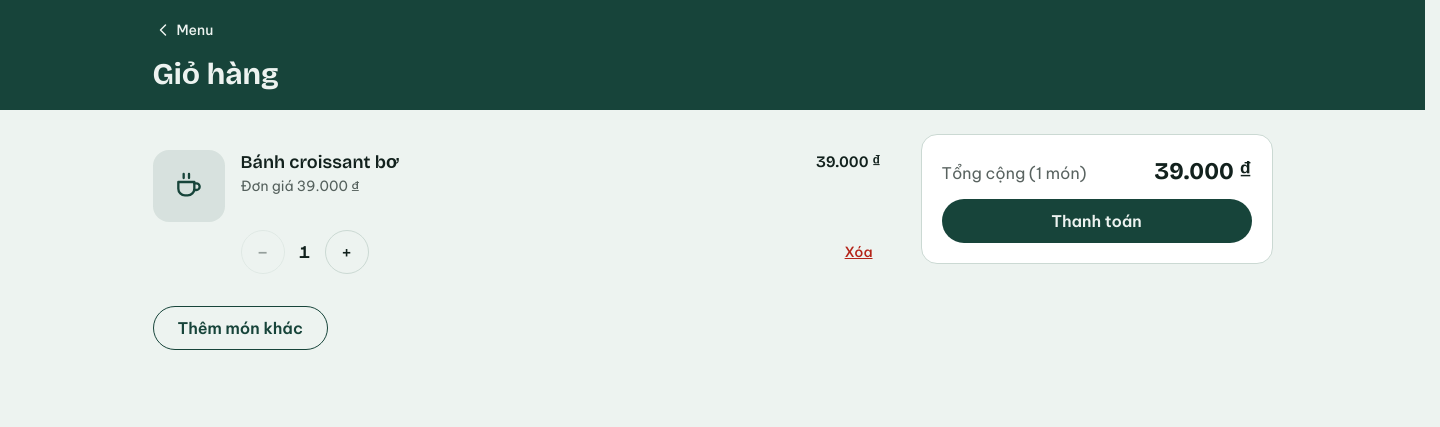
CartScreen › về trạng thái trống khi xóa dòng cuối cùng
The image size is (1440, 427).
Click the button with aria-label "Xóa Bánh croissant bơ khỏi giỏ".
click(859, 252)  # box [837,230,880,274]
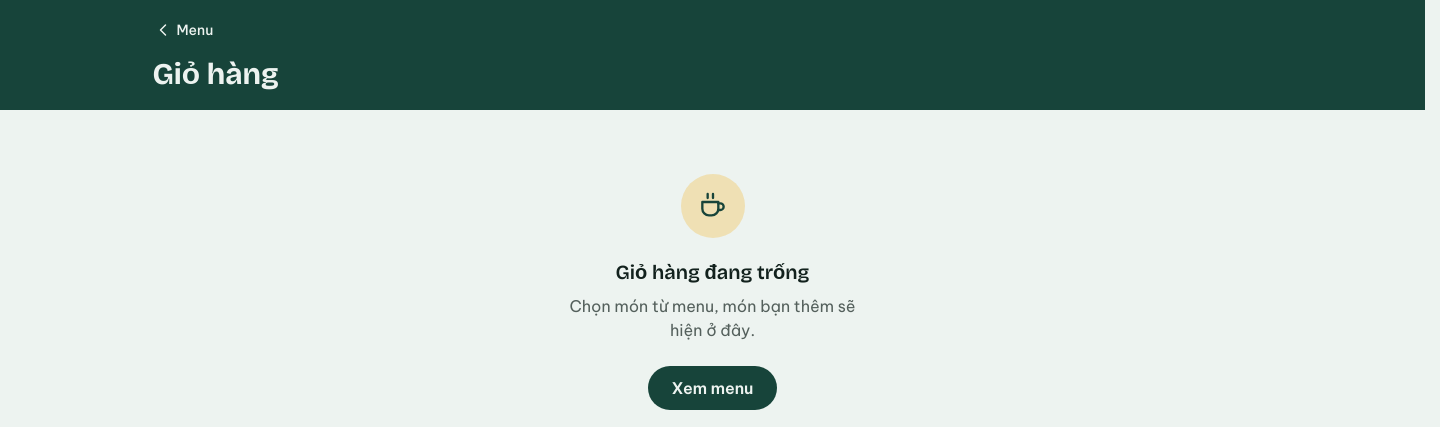
Now the heading "Giỏ hàng đang trống" is shown, box [616,258,809,286]
